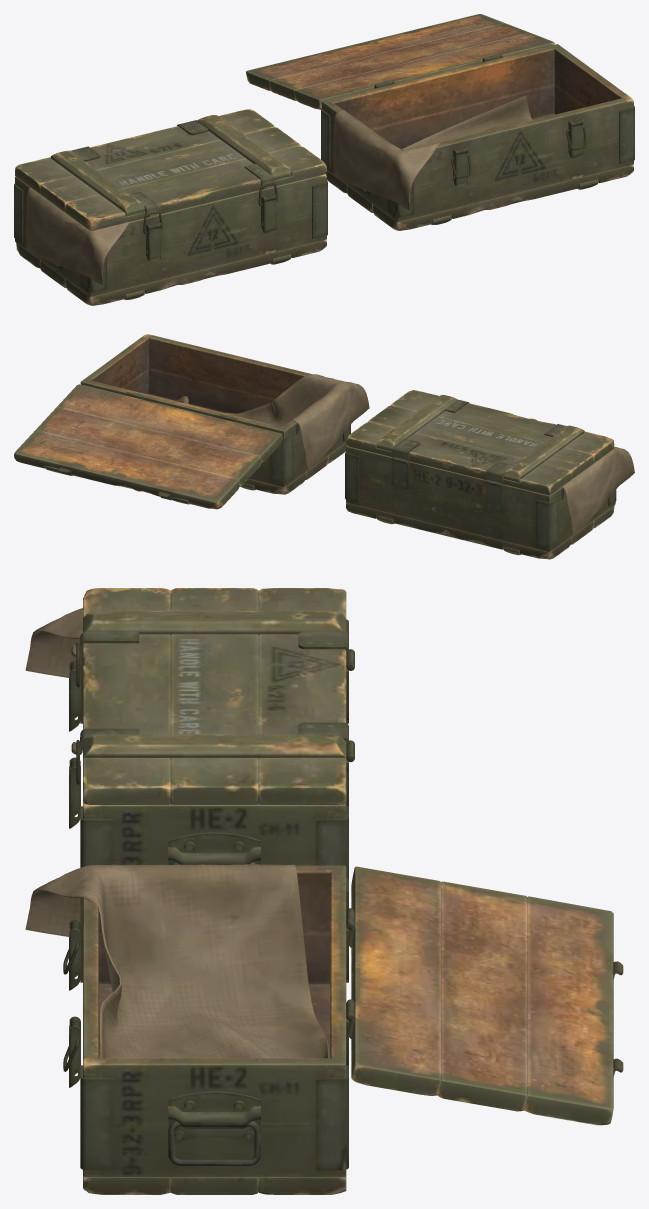
File: old_military_crate.glb
The picture shows the model from 3 angles, top to bottom: view 1: azimuth 30°, elevation 25°; view 2: azimuth 150°, elevation 25°; view 3: azimuth 270°, elevation 25°; orthographic projection. The views are drawn at different scales.
Visible parts, largest first — view 1: old_military_crate_lid_a; view 2: old_military_crate_lid_a; view 3: old_military_crate_lid_a.
Boxes of the visible parts, x1=… form: old_military_crate_lid_a: x1=14, y1=14, x2=634, y2=305; old_military_crate_lid_a: x1=14, y1=334, x2=634, y2=559; old_military_crate_lid_a: x1=25, y1=588, x2=623, y2=1194.
Size of the model in its own units: 1.82 by 0.3009 by 0.9756.
1 material, 1 textured.
